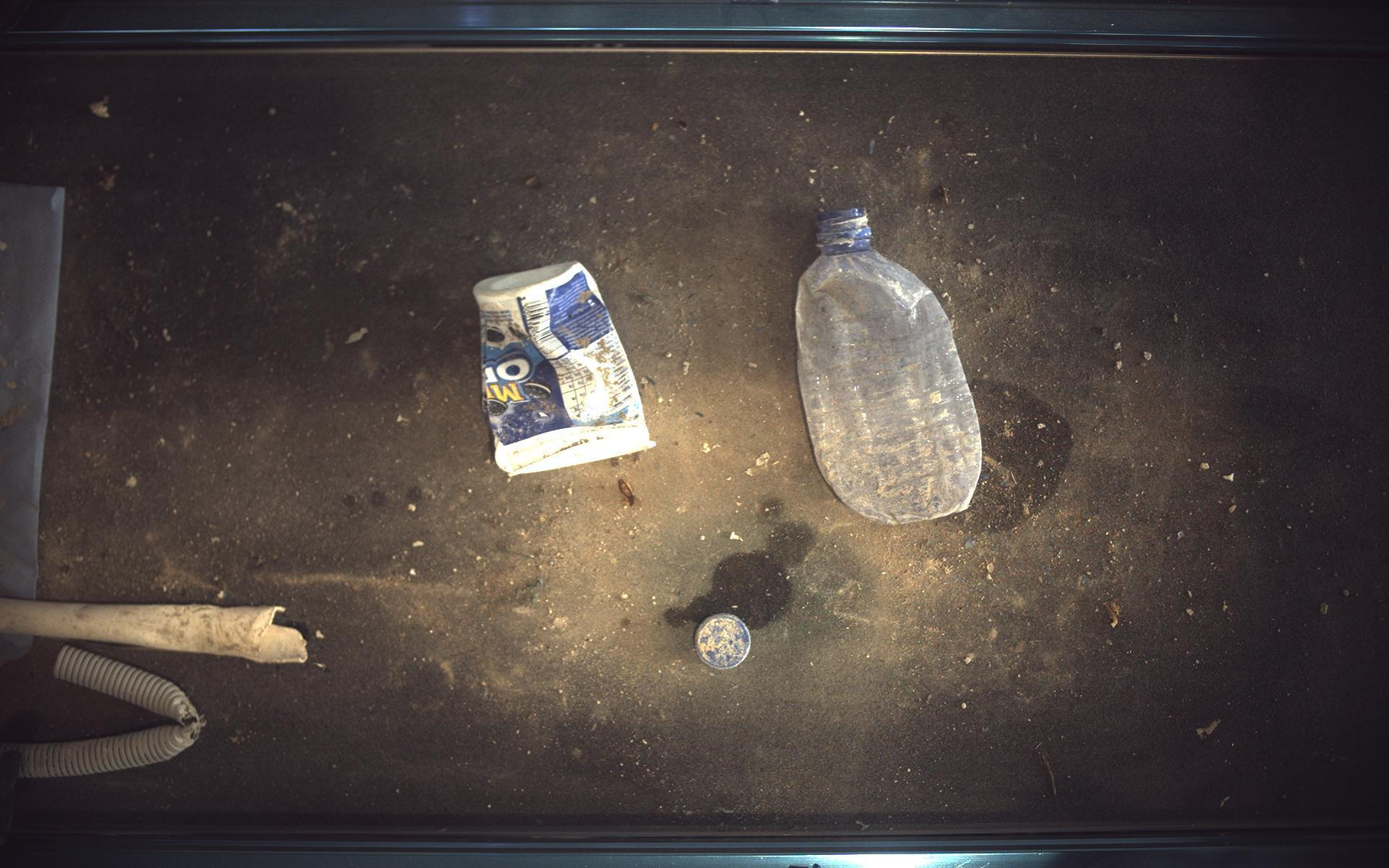general_w: (797, 208, 985, 524), (473, 261, 655, 476), (696, 614, 752, 671)
